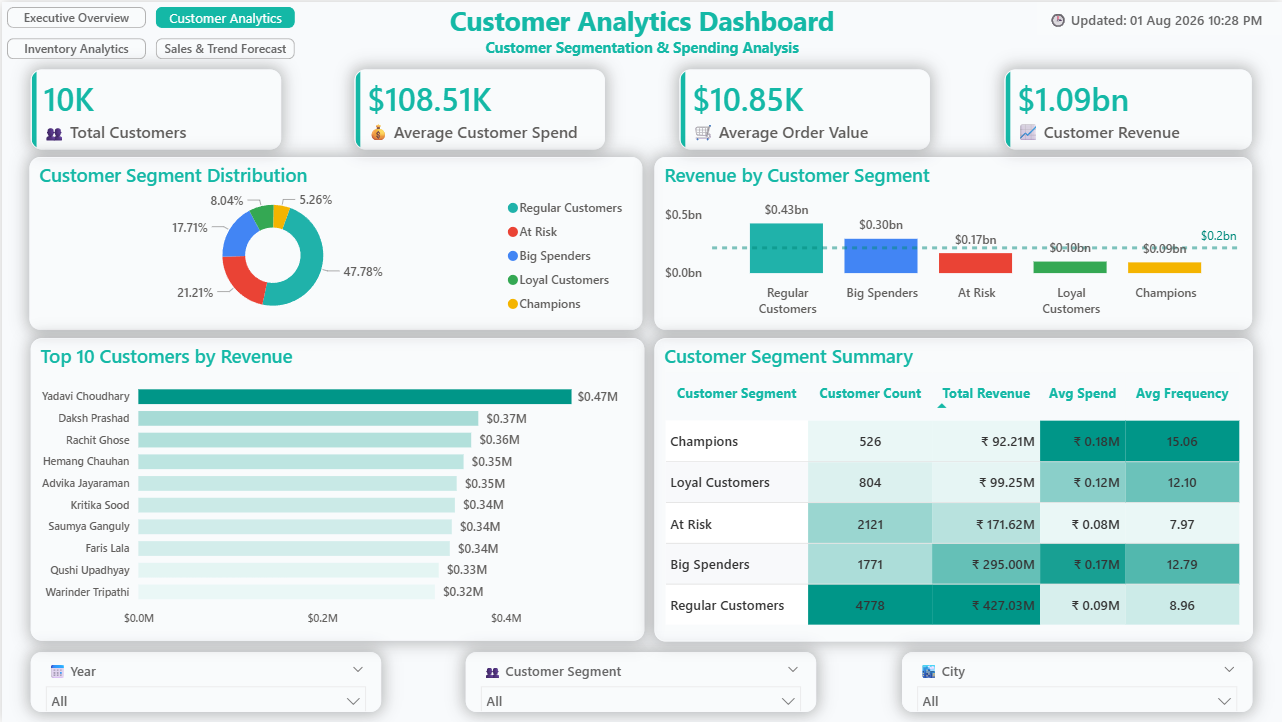

The page's visual inventory and layout, read from the dashboard file:
{"tool":"powerbi","page":{"name":"Customer Analytics","canvas":[1280,720],"ordinal":1},"visuals":[{"type":"textbox","box":[410,0,460,73.8],"z":0},{"type":"cardVisual","fields":{"Data":["_Measures.Total Customers"]},"box":[28.3,67.3,250,80],"z":1000},{"type":"cardVisual","fields":{"Data":["_Measures.Total Revenue"]},"box":[1002.5,67.5,247.5,80],"z":2000},{"type":"cardVisual","fields":{"Data":["_Measures.Average Order Value"]},"box":[677,67.3,250,80],"z":3000},{"type":"cardVisual","fields":{"Data":["_Measures.Average Customer Spend"]},"box":[352,67.3,250,80],"z":4000},{"type":"shape","box":[0,650,1280,70],"z":5000},{"type":"slicer","fields":{"Values":["Calendar.Year"]},"box":[28.2,650,350,60],"z":6000},{"type":"slicer","fields":{"Values":["Customers.City"]},"box":[900,650,350,60],"z":7000},{"type":"slicer","fields":{"Values":["customer_rfm_analysis.Segment"]},"box":[464.1,650,350,60],"z":8000},{"type":"donutChart","title":"Customer Segment Distribution","fields":{"Category":["customer_rfm_analysis.Segment"],"Y":["_Measures.Total Customers"]},"box":[27.5,155,612.5,172.5],"z":9000},{"type":"clusteredColumnChart","title":"Revenue by Customer Segment","fields":{"Category":["customer_rfm_analysis.Segment"],"Y":["_Measures.Total Revenue"]},"box":[652.5,155,597.5,172.5],"z":10000},{"type":"clusteredBarChart","title":"Top 10 Customers by Revenue","fields":{"Y":["_Measures.Total Revenue"],"Category":["Customers.CustomerName"]},"box":[28.8,336.2,613.8,302.5],"z":11000},{"type":"tableEx","title":"Customer Segment Summary","fields":{"Values":["customer_rfm_analysis.Segment","_Measures.Total Customers","_Measures.Total Revenue","_Measures.Average Customer Spend","Avg(customer_rfm_analysis.Frequency)"]},"box":[653,336,598,303],"z":12000},{"type":"pageNavigator","box":[5,5,288.8,52.5],"z":13000},{"type":"cardVisual","fields":{"Data":["_Measures.Last Refresh Text"]},"box":[1035,0,245,33.8],"z":14000}]}

Visuals, with their boxes in screenshot pixels (x1, y1, x2, y2), scaled from the page's 1280x720 canvas onto the 1282x722 screenshot:
textbox: bbox=[411, 0, 871, 74]
cardVisual - _Measures.Total Customers: bbox=[28, 67, 279, 148]
cardVisual - _Measures.Total Revenue: bbox=[1004, 68, 1252, 148]
cardVisual - _Measures.Average Order Value: bbox=[678, 67, 928, 148]
cardVisual - _Measures.Average Customer Spend: bbox=[353, 67, 603, 148]
shape: bbox=[0, 652, 1281, 721]
slicer - Calendar.Year: bbox=[28, 652, 379, 712]
slicer - Customers.City: bbox=[901, 652, 1252, 712]
slicer - customer_rfm_analysis.Segment: bbox=[465, 652, 815, 712]
"Customer Segment Distribution" donutChart: bbox=[28, 155, 641, 328]
"Revenue by Customer Segment" clusteredColumnChart: bbox=[654, 155, 1252, 328]
"Top 10 Customers by Revenue" clusteredBarChart: bbox=[29, 337, 644, 640]
"Customer Segment Summary" tableEx: bbox=[654, 337, 1253, 641]
pageNavigator: bbox=[5, 5, 294, 58]
cardVisual - _Measures.Last Refresh Text: bbox=[1037, 0, 1281, 34]
